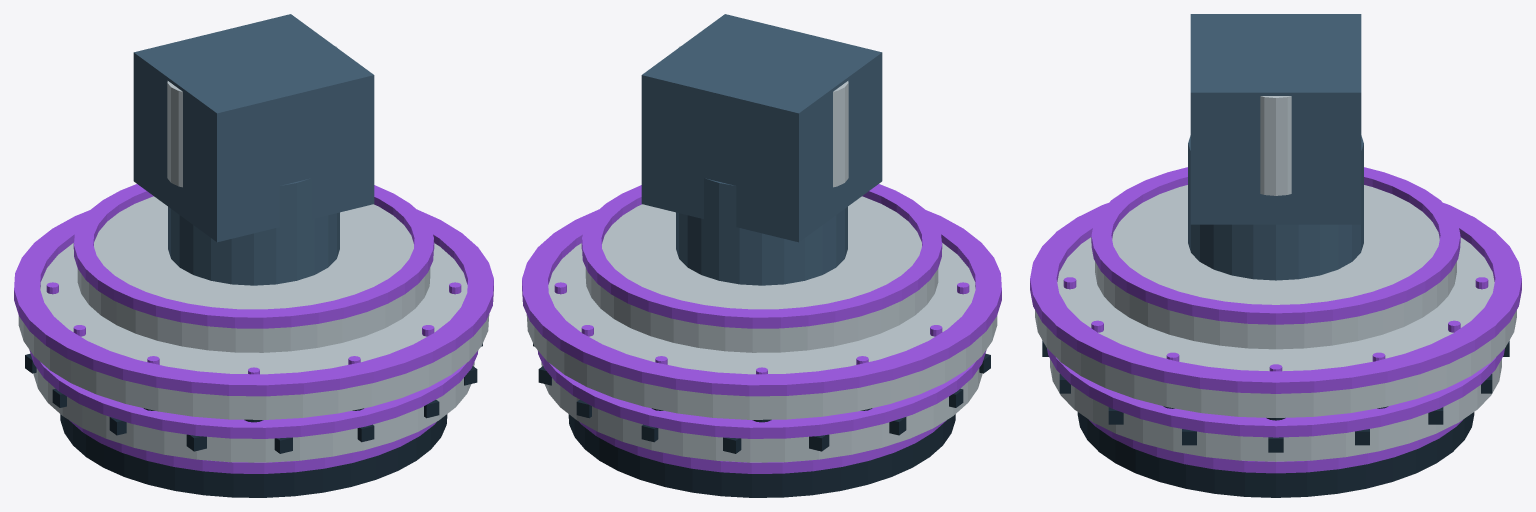
Rendered from 33_L77_BarrierClearingCarrierHead.fbx.
3 views of the same model, side by side, from view 1: azimuth 30°, elevation 25°; view 2: azimuth 150°, elevation 25°; view 3: azimuth 270°, elevation 25° (orthographic). The views are drawn at different scales.
Parts seen in each view (by area): view 1: BarrierClearingCarrierHead_Part_0082, BarrierClearingCarrierHead_Part_0004, BarrierClearingCarrierHead_Part_0006, BarrierClearingCarrierHead_Part_0005, BarrierClearingCarrierHead_Part_0007, BarrierClearingCarrierHead_Part_0008, BarrierClearingCarrierHead_Part_0000, BarrierClearingCarrierHead_Part_0002, BarrierClearingCarrierHead_Part_0003, BarrierClearingCarrierHead_Part_0001, BarrierClearingCarrierHead_Part_0083; view 2: BarrierClearingCarrierHead_Part_0082, BarrierClearingCarrierHead_Part_0004, BarrierClearingCarrierHead_Part_0006, BarrierClearingCarrierHead_Part_0005, BarrierClearingCarrierHead_Part_0007, BarrierClearingCarrierHead_Part_0008, BarrierClearingCarrierHead_Part_0000, BarrierClearingCarrierHead_Part_0002, BarrierClearingCarrierHead_Part_0003, BarrierClearingCarrierHead_Part_0001, BarrierClearingCarrierHead_Part_0083; view 3: BarrierClearingCarrierHead_Part_0082, BarrierClearingCarrierHead_Part_0006, BarrierClearingCarrierHead_Part_0004, BarrierClearingCarrierHead_Part_0005, BarrierClearingCarrierHead_Part_0007, BarrierClearingCarrierHead_Part_0000, BarrierClearingCarrierHead_Part_0002, BarrierClearingCarrierHead_Part_0008, BarrierClearingCarrierHead_Part_0003, BarrierClearingCarrierHead_Part_0001, BarrierClearingCarrierHead_Part_0084.
Part boxes in pixels (x1=…): BarrierClearingCarrierHead_Part_0082: x1=133, y1=14, x2=374, y2=242; BarrierClearingCarrierHead_Part_0004: x1=18, y1=243, x2=489, y2=419; BarrierClearingCarrierHead_Part_0006: x1=77, y1=196, x2=430, y2=352; BarrierClearingCarrierHead_Part_0005: x1=14, y1=209, x2=493, y2=396; BarrierClearingCarrierHead_Part_0007: x1=74, y1=184, x2=433, y2=328; BarrierClearingCarrierHead_Part_0008: x1=168, y1=178, x2=339, y2=285; BarrierClearingCarrierHead_Part_0000: x1=60, y1=414, x2=447, y2=497; BarrierClearingCarrierHead_Part_0002: x1=33, y1=362, x2=474, y2=462; BarrierClearingCarrierHead_Part_0003: x1=29, y1=350, x2=478, y2=438; BarrierClearingCarrierHead_Part_0001: x1=69, y1=420, x2=436, y2=473; BarrierClearingCarrierHead_Part_0083: x1=167, y1=81, x2=182, y2=187; BarrierClearingCarrierHead_Part_0082: x1=641, y1=14, x2=882, y2=242; BarrierClearingCarrierHead_Part_0004: x1=526, y1=243, x2=997, y2=419; BarrierClearingCarrierHead_Part_0006: x1=585, y1=196, x2=938, y2=352; BarrierClearingCarrierHead_Part_0005: x1=522, y1=209, x2=1001, y2=396; BarrierClearingCarrierHead_Part_0007: x1=582, y1=184, x2=941, y2=328; BarrierClearingCarrierHead_Part_0008: x1=676, y1=178, x2=847, y2=285; BarrierClearingCarrierHead_Part_0000: x1=568, y1=414, x2=955, y2=497; BarrierClearingCarrierHead_Part_0002: x1=541, y1=362, x2=982, y2=462; BarrierClearingCarrierHead_Part_0003: x1=537, y1=350, x2=986, y2=438; BarrierClearingCarrierHead_Part_0001: x1=579, y1=420, x2=946, y2=473; BarrierClearingCarrierHead_Part_0083: x1=833, y1=81, x2=848, y2=187; BarrierClearingCarrierHead_Part_0082: x1=1190, y1=14, x2=1361, y2=224; BarrierClearingCarrierHead_Part_0006: x1=1095, y1=185, x2=1456, y2=349; BarrierClearingCarrierHead_Part_0004: x1=1035, y1=237, x2=1516, y2=417; BarrierClearingCarrierHead_Part_0005: x1=1030, y1=203, x2=1521, y2=393; BarrierClearingCarrierHead_Part_0007: x1=1091, y1=167, x2=1460, y2=324; BarrierClearingCarrierHead_Part_0000: x1=1077, y1=412, x2=1474, y2=497; BarrierClearingCarrierHead_Part_0002: x1=1050, y1=359, x2=1501, y2=461; BarrierClearingCarrierHead_Part_0008: x1=1188, y1=135, x2=1363, y2=280; BarrierClearingCarrierHead_Part_0003: x1=1047, y1=348, x2=1504, y2=437; BarrierClearingCarrierHead_Part_0001: x1=1089, y1=420, x2=1462, y2=473; BarrierClearingCarrierHead_Part_0084: x1=1260, y1=96, x2=1291, y2=195.
Bounding box in the file's own units: 196 × 158 × 196.
